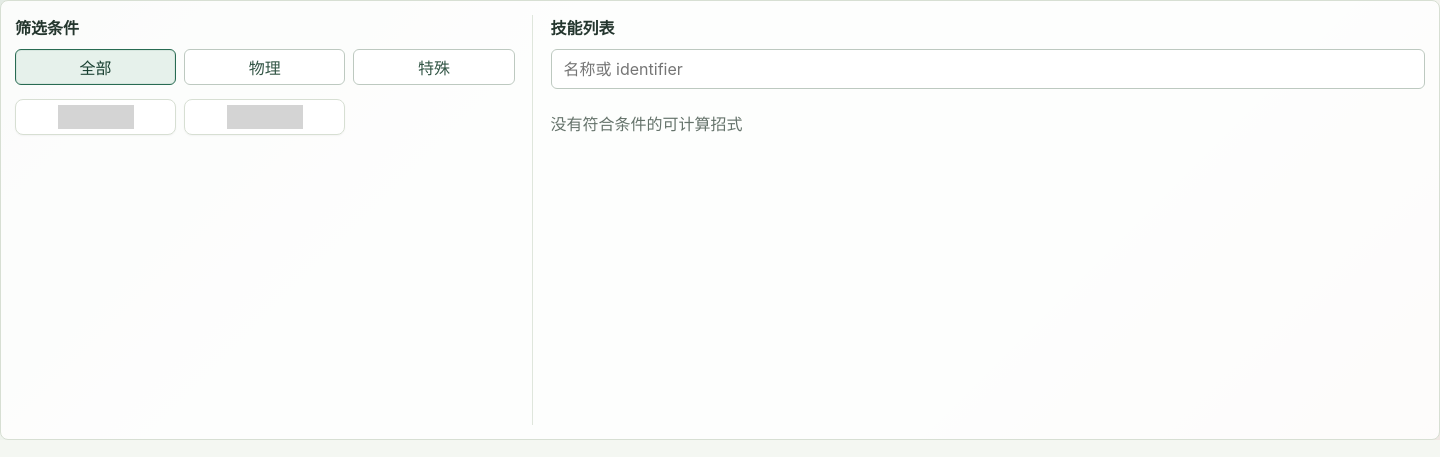
Scenario: MoveSelector › ignores a late response from an older text filter
Type "old" into the search field with test id "move-search-input".
click(988, 69); type("old")  # box [551, 49, 1425, 89]
Wait 250 ms
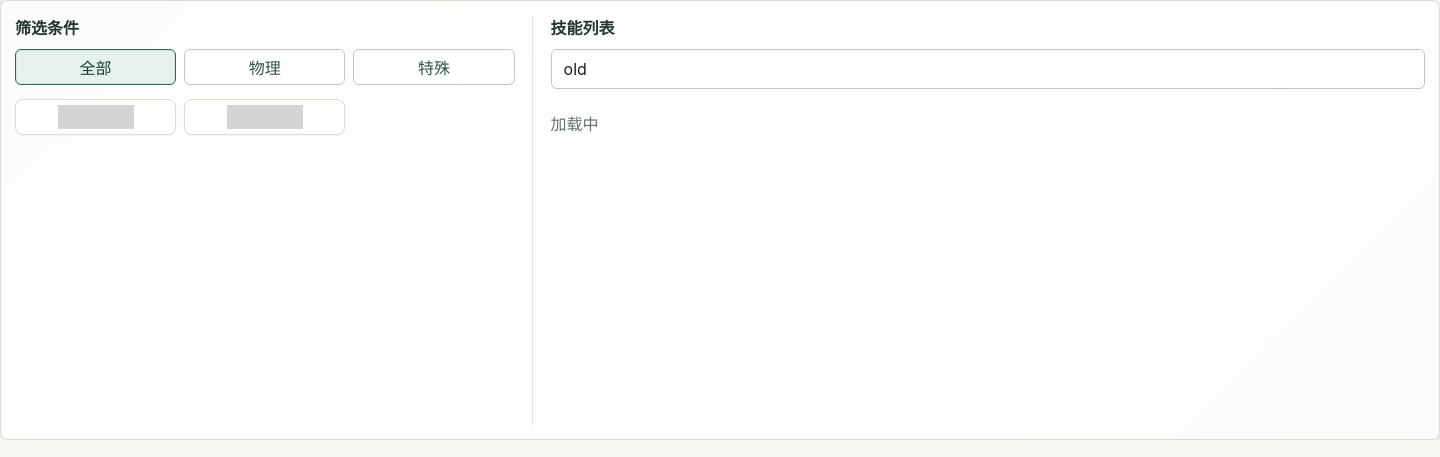
Replace the text in the search field with test id "move-search-input" with "new" at point(988, 69), box [551, 49, 1425, 89]
Wait 250 ms
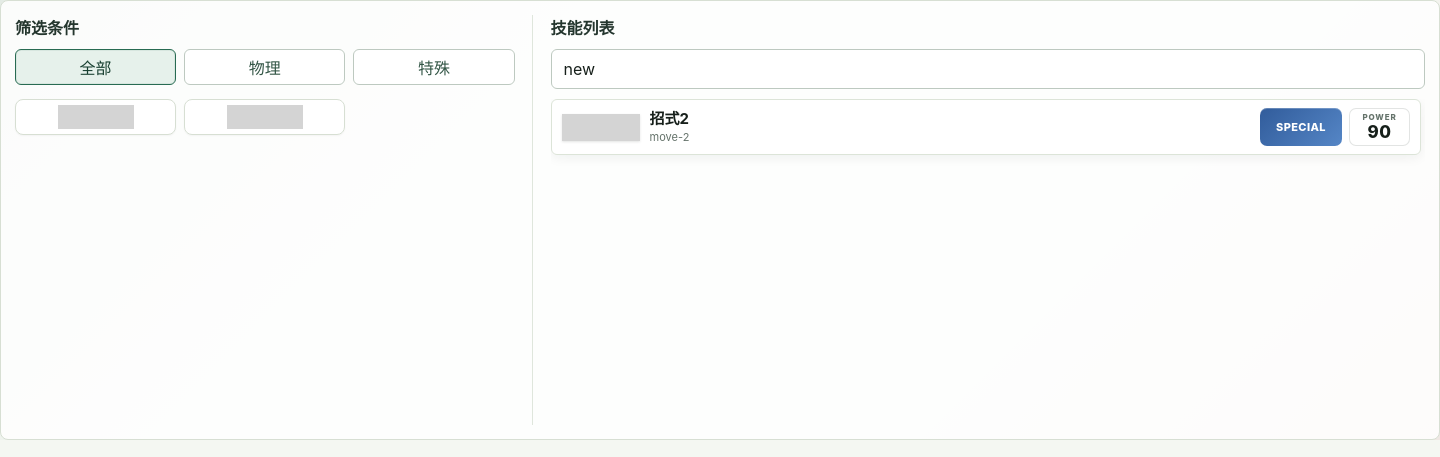
Check: the text "招式2" is shown, box [650, 110, 689, 128]
